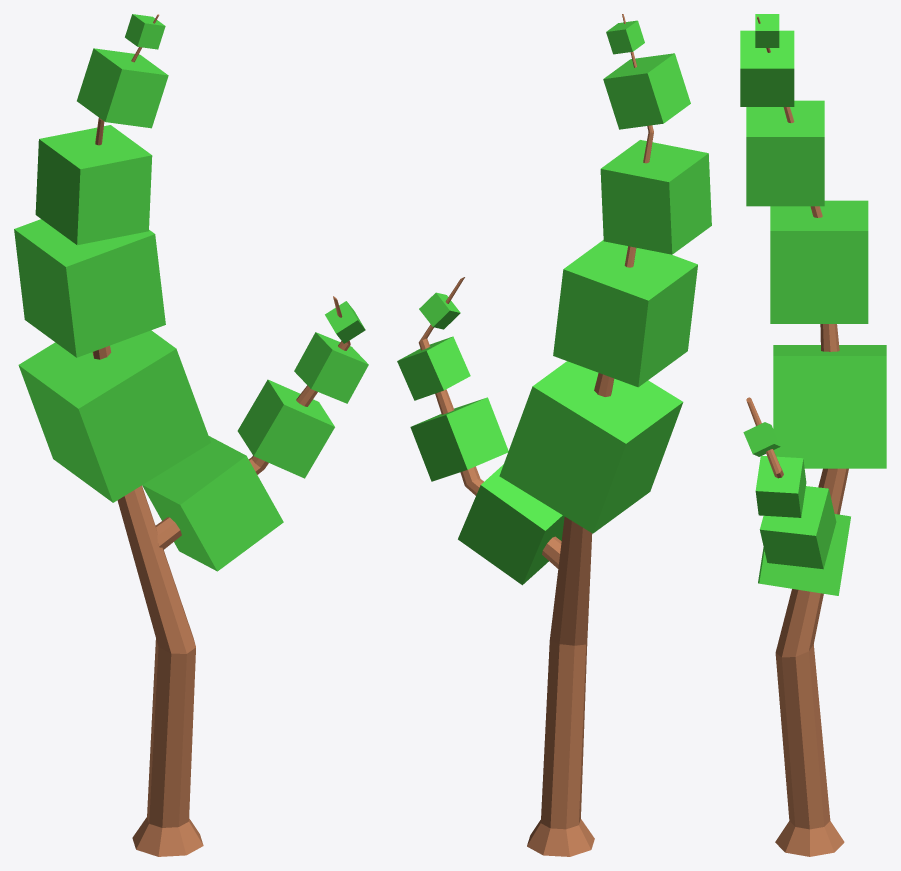
Rendered from Árbol 4.fbx.
3 renders of one model, left to right at view 1: azimuth 30°, elevation 25°; view 2: azimuth 150°, elevation 25°; view 3: azimuth 270°, elevation 25°, orthographic. The views are drawn at different scales.
Visible parts, largest first — view 1: Circle.001; view 2: Circle.001; view 3: Circle.001.
Part boxes in pixels (x1,y1,x2,y2): Circle.001: (14,14,368,856); Circle.001: (397,14,711,856); Circle.001: (740,14,886,856).
Size of the model in its own units: 531 by 1437 by 235.
